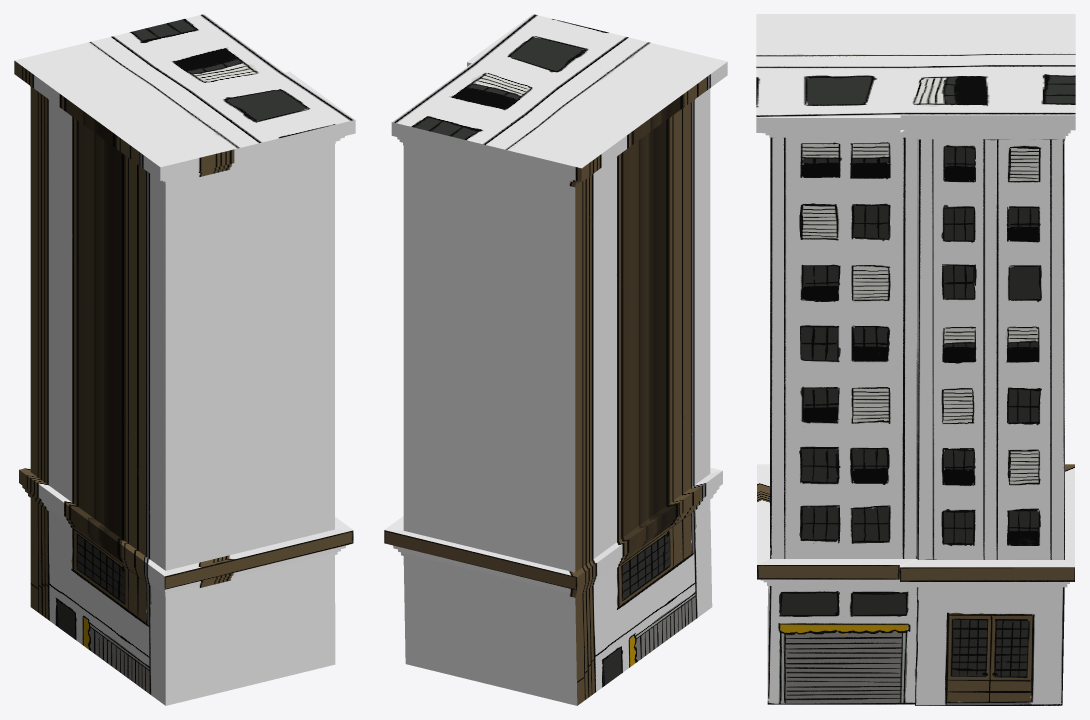
The model's file is predio2.glb.
3 renders of one model, left to right at view 1: azimuth 30°, elevation 25°; view 2: azimuth 150°, elevation 25°; view 3: azimuth 270°, elevation 25°, orthographic. The views are drawn at different scales.
Parts seen in each view (by area): view 1: Cube; view 2: Cube; view 3: Cube.
Part boxes in pixels (x1,y1,x2,y2): Cube: [14, 14, 355, 705]; Cube: [384, 14, 727, 705]; Cube: [756, 14, 1075, 705].
Bounding box in the file's own units: 1.75 × 4.6 × 2.24.
1 material, 1 textured.
